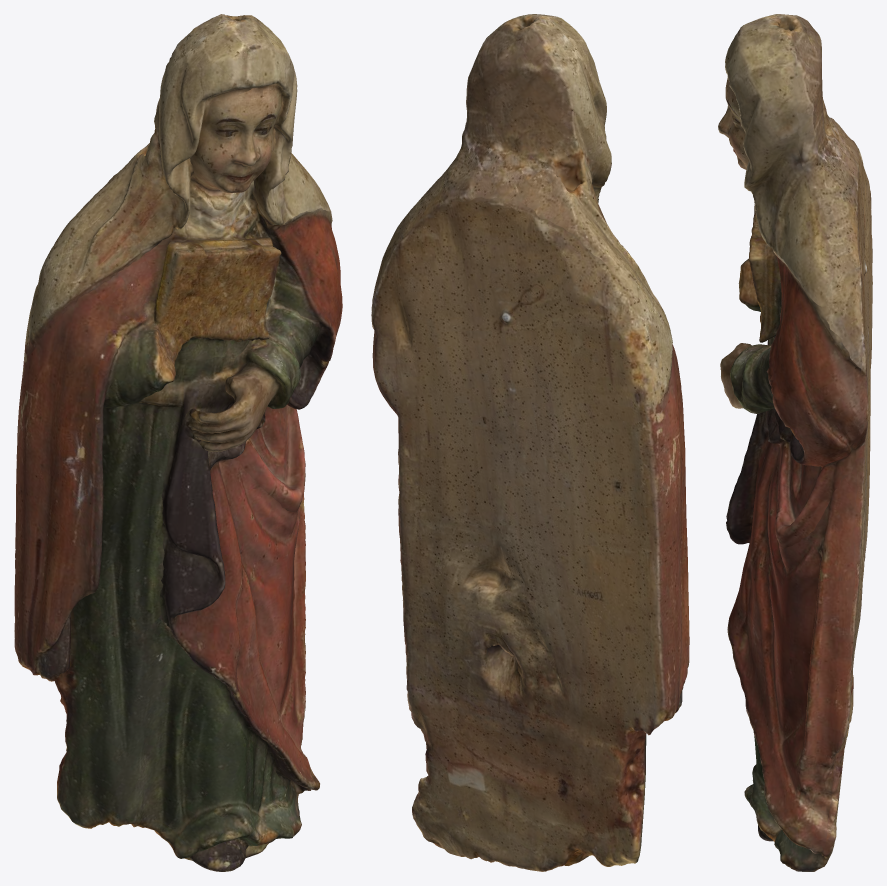
The model's file is scan-anna.glb.
The picture shows the model from 3 angles, left to right: view 1: azimuth 30°, elevation 25°; view 2: azimuth 150°, elevation 25°; view 3: azimuth 270°, elevation 25°; orthographic projection. The views are drawn at different scales.
Visible parts, largest first — view 1: geometry_0; view 2: geometry_0; view 3: geometry_0.
Boxes of the visible parts, bbox=[...] form: geometry_0: bbox=[14, 14, 342, 871]; geometry_0: bbox=[371, 14, 689, 871]; geometry_0: bbox=[718, 14, 872, 871].
Bounding box in the file's own units: 0.7567 × 2 × 0.3389.
1 material, 1 textured.
